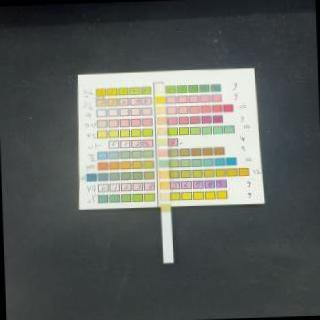mark: (161, 202, 170, 212), (154, 85, 164, 93), (155, 96, 165, 104), (156, 128, 166, 136), (156, 138, 166, 146), (158, 148, 168, 156), (158, 170, 168, 178), (160, 181, 170, 189), (160, 192, 169, 200), (155, 107, 165, 114), (158, 160, 168, 167), (157, 117, 166, 124)
